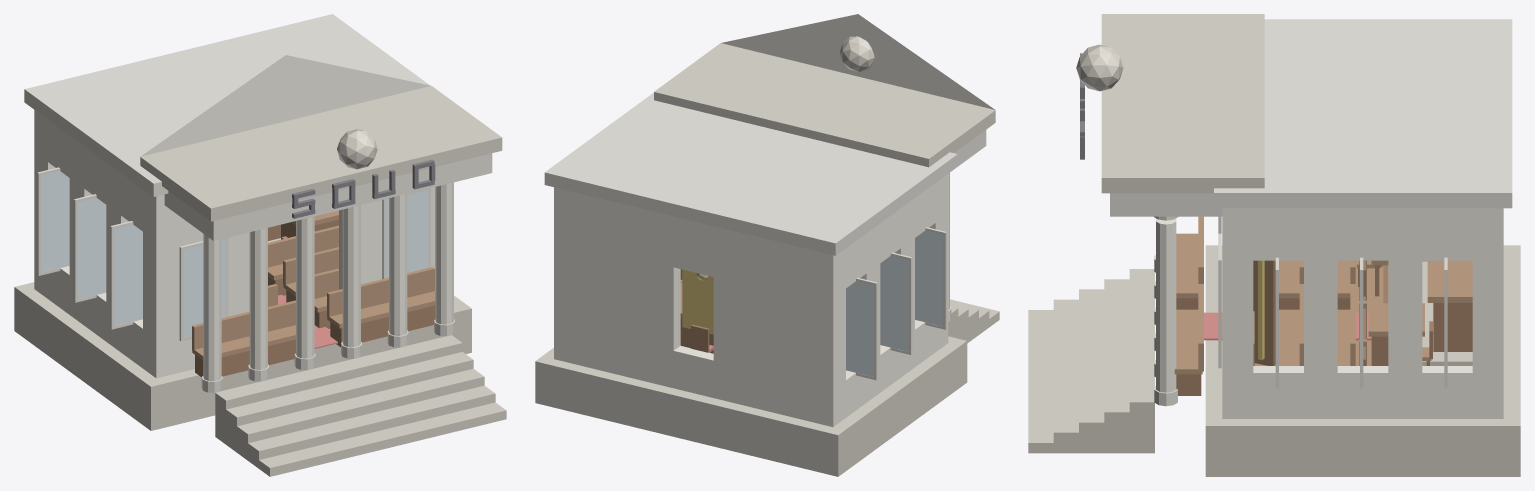
File: soud.glb
3 renders of one model, left to right at view 1: azimuth 30°, elevation 25°; view 2: azimuth 150°, elevation 25°; view 3: azimuth 270°, elevation 25°, orthographic. The views are drawn at different scales.
Visible parts, largest first — view 1: Soud_stone2, Soud_bone, Soud_stone, Soud_glass, Soud_wood, Soud_wood2, Soud_dark; view 2: Soud_bone, Soud_stone2, Soud_stone, Soud_glass, Soud_gold2, Soud_wood2; view 3: Soud_stone2, Soud_stone, Soud_bone, Soud_wood, Soud_wood2, Soud_red2, Soud_gold2.
Part boxes in pixels (x1,y1,x2,y2): Soud_stone2: (14,86,506,476); Soud_bone: (34,55,453,381); Soud_stone: (24,14,492,392); Soud_glass: (41,171,428,337); Soud_wood: (192,210,435,360); Soud_wood2: (195,219,435,376); Soud_dark: (292,159,435,218); Soud_bone: (554,14,994,426); Soud_stone2: (535,36,999,476); Soud_stone: (544,92,986,380); Soud_glass: (846,230,942,376); Soud_gold2: (682,269,713,334); Soud_wood2: (680,318,713,353); Soud_stone2: (1028,14,1520,476); Soud_stone: (1110,19,1512,406); Soud_bone: (1156,208,1503,418); Soud_wood: (1174,216,1472,374); Soud_wood2: (1176,260,1472,395); Soud_red2: (1204,312,1371,340); Soud_gold2: (1258,260,1264,360).
Size of the model in its own units: 8.02 by 7.2 by 8.75.
